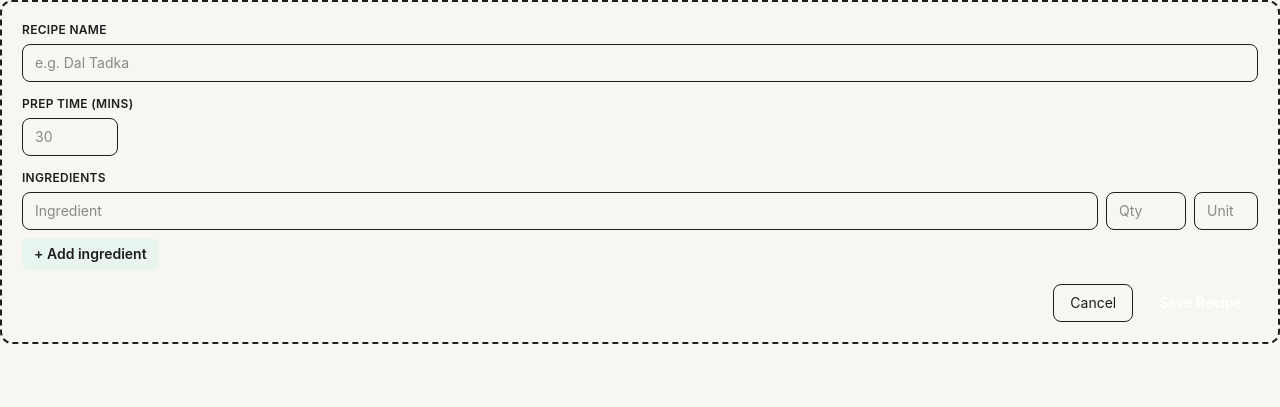
Test case: AddRecipeForm › adds a new ingredient row when + Add ingredient clicked
Expected: the number of fields labelled "Ingredient" is 1, [22, 192, 1098, 230]
Click the button "+ Add ingredient".
click(90, 254)  # box [22, 238, 159, 270]
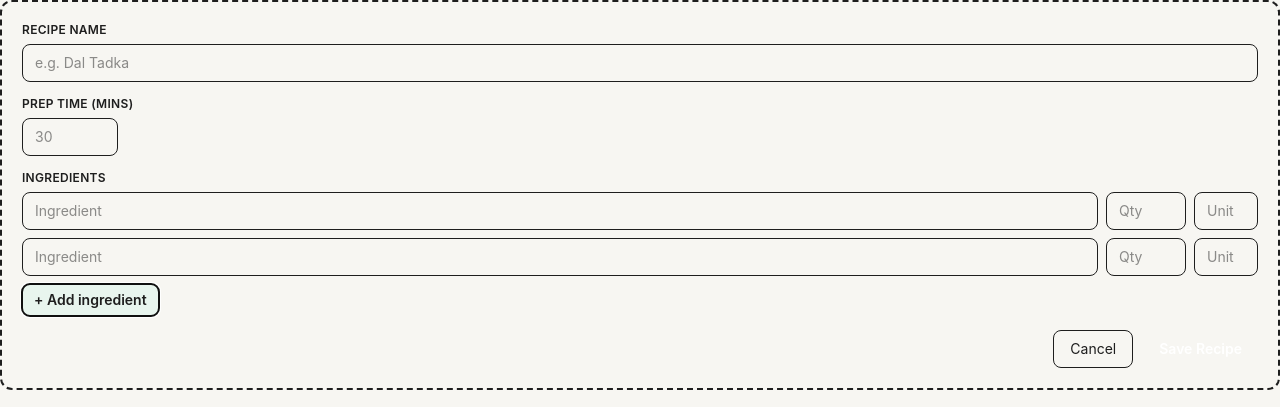
Expected: the number of fields labelled "Ingredient" is 2, [22, 192, 1098, 230]; [22, 238, 1098, 276]
